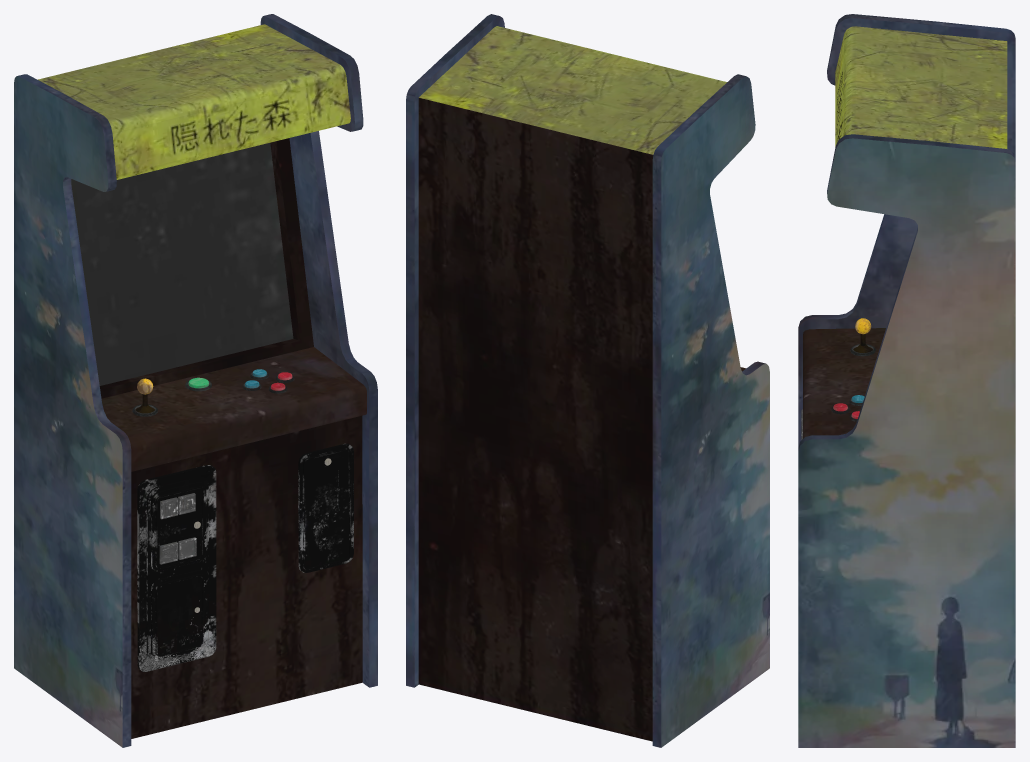
Rendered from rusty-jp.glb.
The picture shows the model from 3 angles, left to right: view 1: azimuth 30°, elevation 25°; view 2: azimuth 150°, elevation 25°; view 3: azimuth 270°, elevation 25°; orthographic projection.
Visible parts, largest first — view 1: Arcade_Arcade_0; view 2: Arcade_Arcade_0; view 3: Arcade_Arcade_0.
Boxes of the visible parts, x1=… form: Arcade_Arcade_0: x1=14, y1=14, x2=377, y2=747; Arcade_Arcade_0: x1=406, y1=14, x2=769, y2=747; Arcade_Arcade_0: x1=798, y1=14, x2=1015, y2=747.
Bounding box in the file's own units: 2.71 × 6.19 × 2.
Materials: 2 (1 with a texture image).
